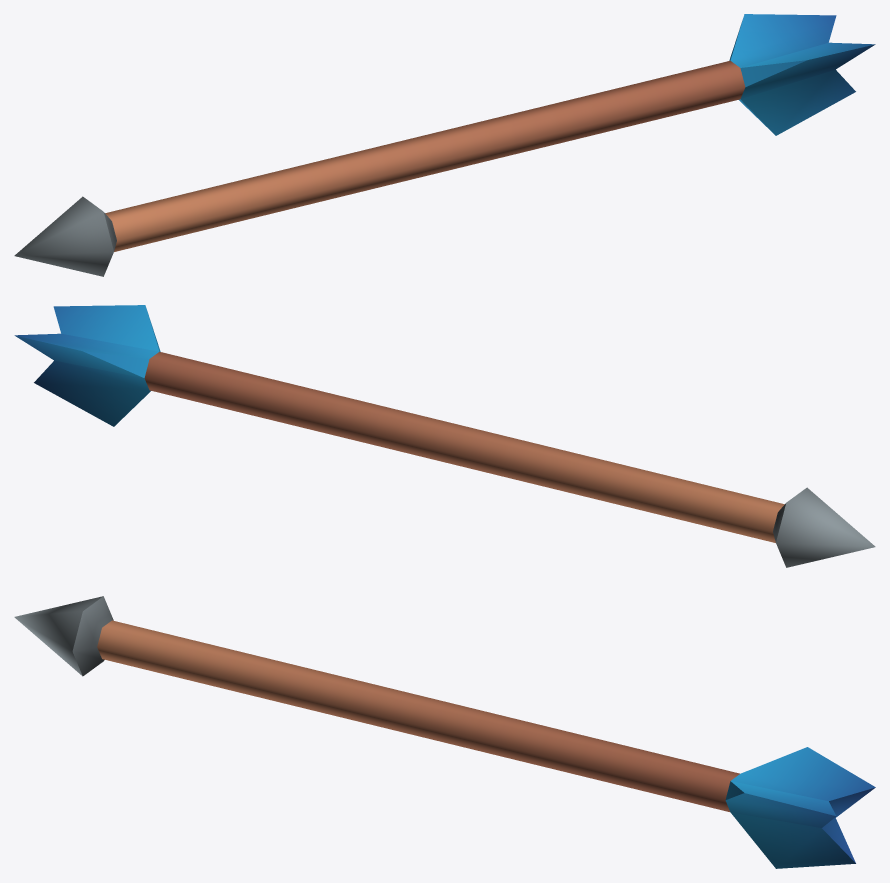
The model's file is Arrow.glb.
3 views of the same model, one above another, from view 1: azimuth 30°, elevation 25°; view 2: azimuth 150°, elevation 25°; view 3: azimuth 330°, elevation 25° (orthographic).
Parts seen in each view (by area): view 1: arrow_bow; view 2: arrow_bow; view 3: arrow_bow.
Boxes of the visible parts, box(x1,y1,x2,y2) form: arrow_bow: box(14, 14, 875, 276); arrow_bow: box(14, 305, 875, 567); arrow_bow: box(14, 596, 875, 868).
Bounding box in the file's own units: 1.26 × 0.1416 × 0.1635.
1 material, 1 textured.
